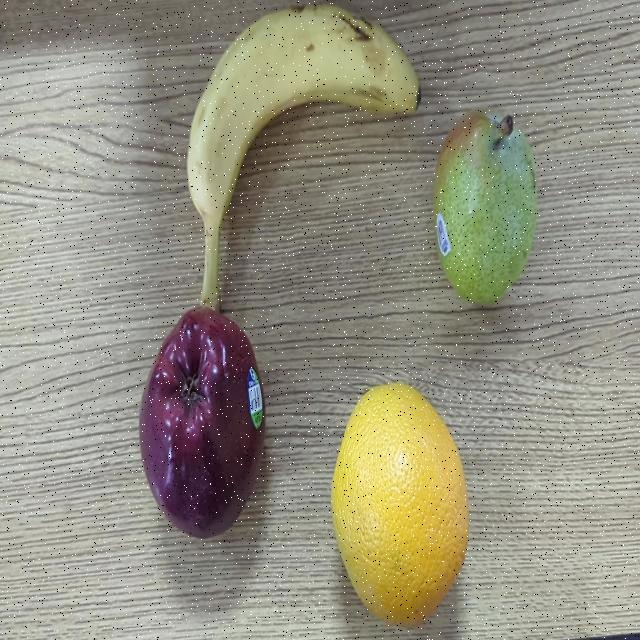Apel Merah: (134, 298, 268, 532)
Jeruk: (336, 384, 472, 632)
Pir: (430, 110, 550, 338)
Pisang: (164, 11, 430, 300)
